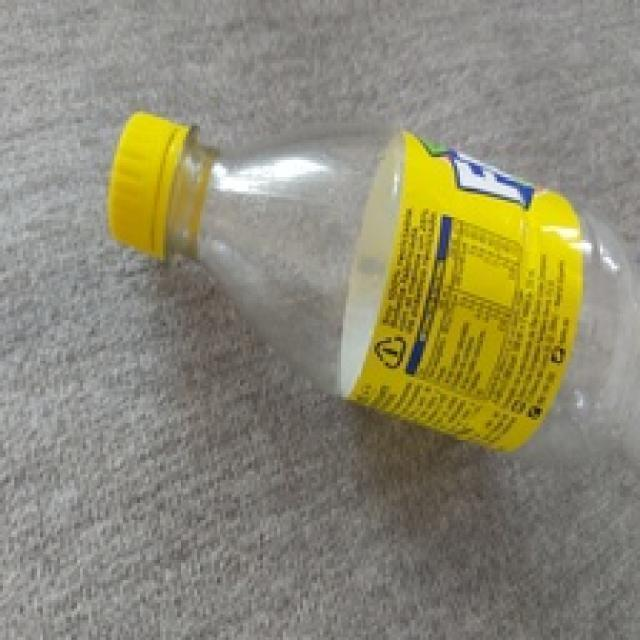Plastic: (106, 111, 640, 502)
